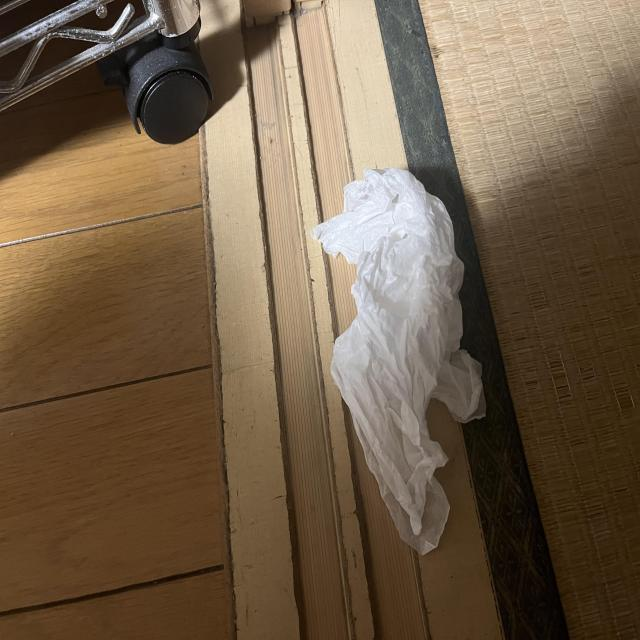Paper: (294, 167, 480, 553)
